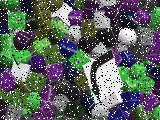Left: (82, 49, 124, 104)
